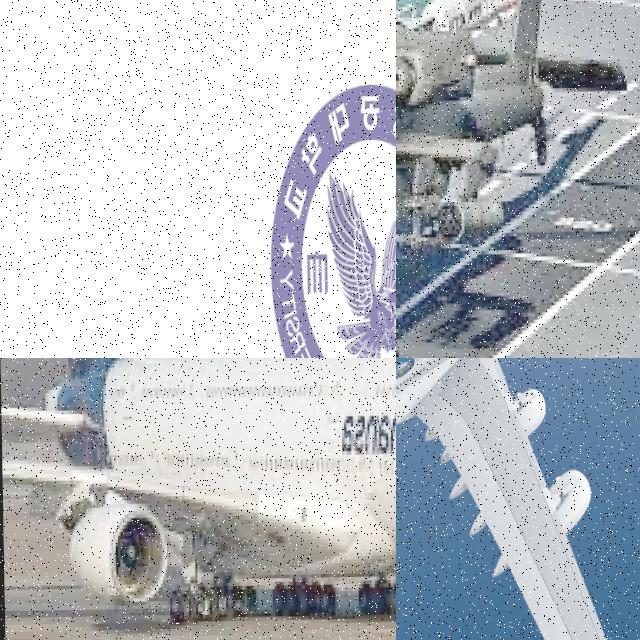A380: (0, 358, 396, 640), (396, 358, 635, 640)
Apache: (396, 0, 631, 338)
KAU_Marker: (265, 80, 396, 358)
